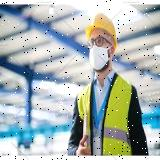Helmet: (85, 10, 117, 52)
Vest: (77, 74, 134, 156)
